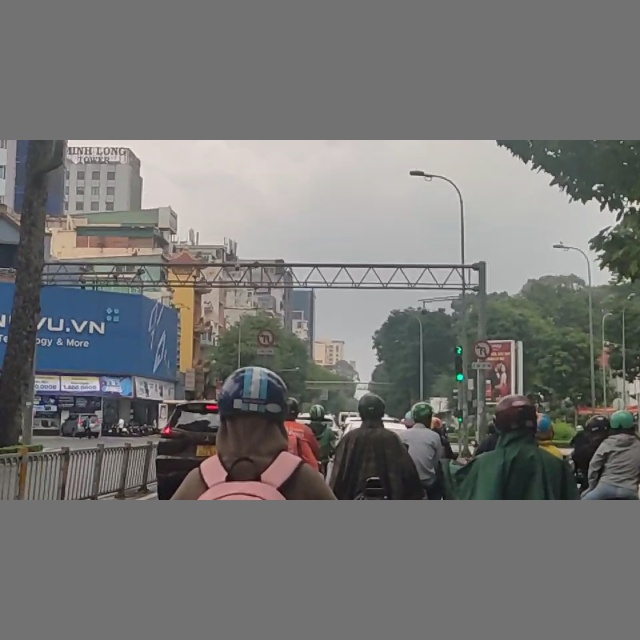P.124c: (471, 340, 494, 361), (257, 327, 275, 345)
